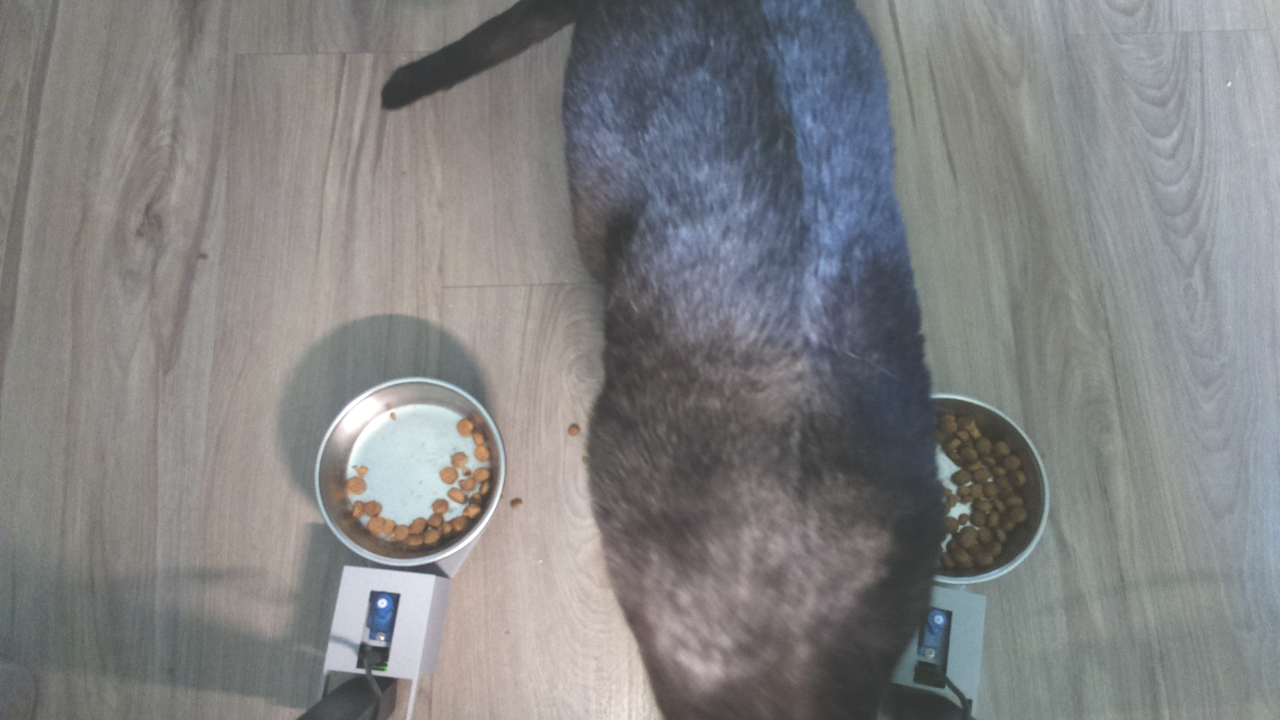open_bowl: (311, 375, 511, 569), (926, 392, 1055, 584)
